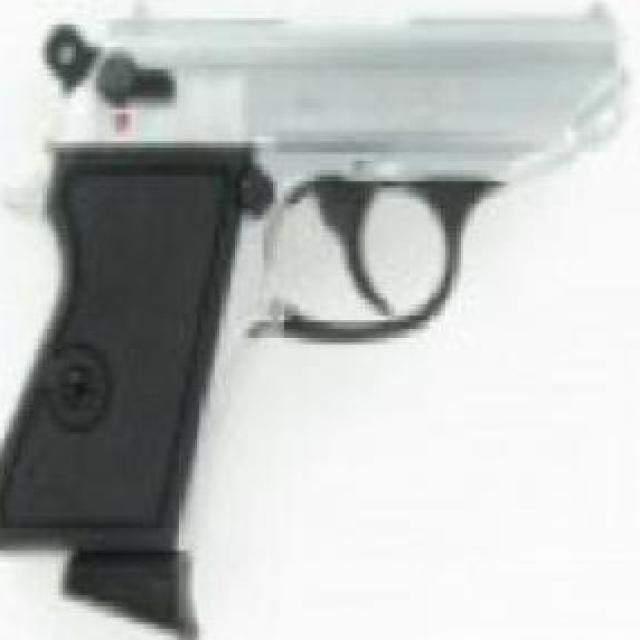pistol: (0, 0, 620, 629)
